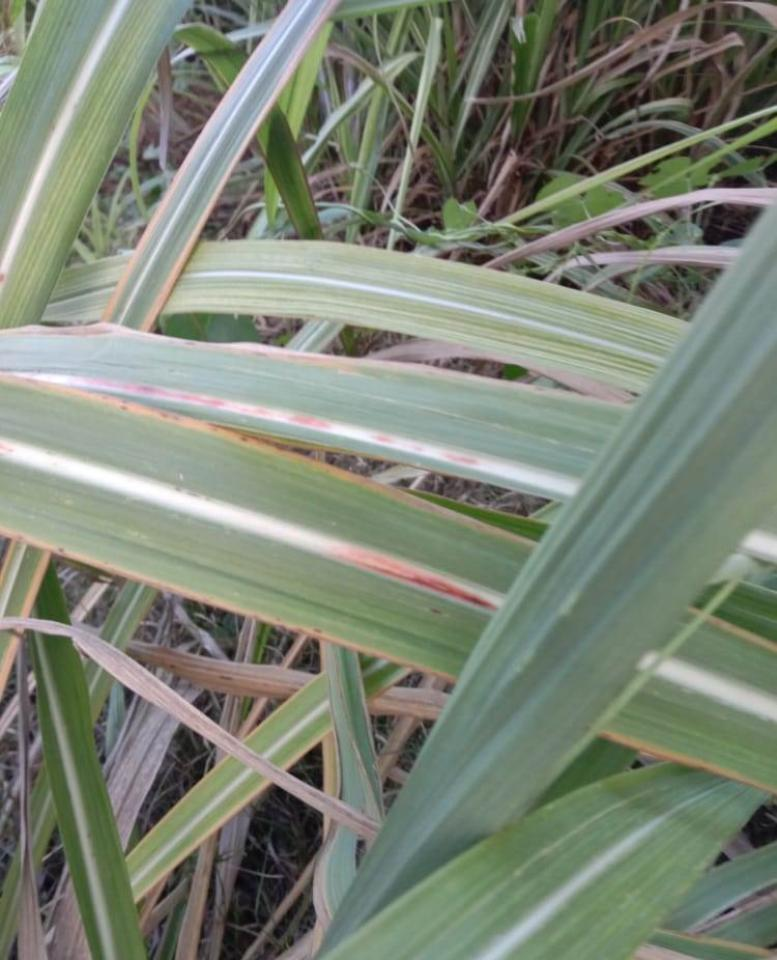RedRot: (71, 375, 483, 467), (319, 544, 495, 611)
Rust: (428, 607, 445, 615), (185, 491, 201, 498), (175, 487, 182, 493), (204, 497, 211, 501), (46, 450, 50, 455)
Yellow: (0, 375, 536, 546), (0, 526, 456, 683)
